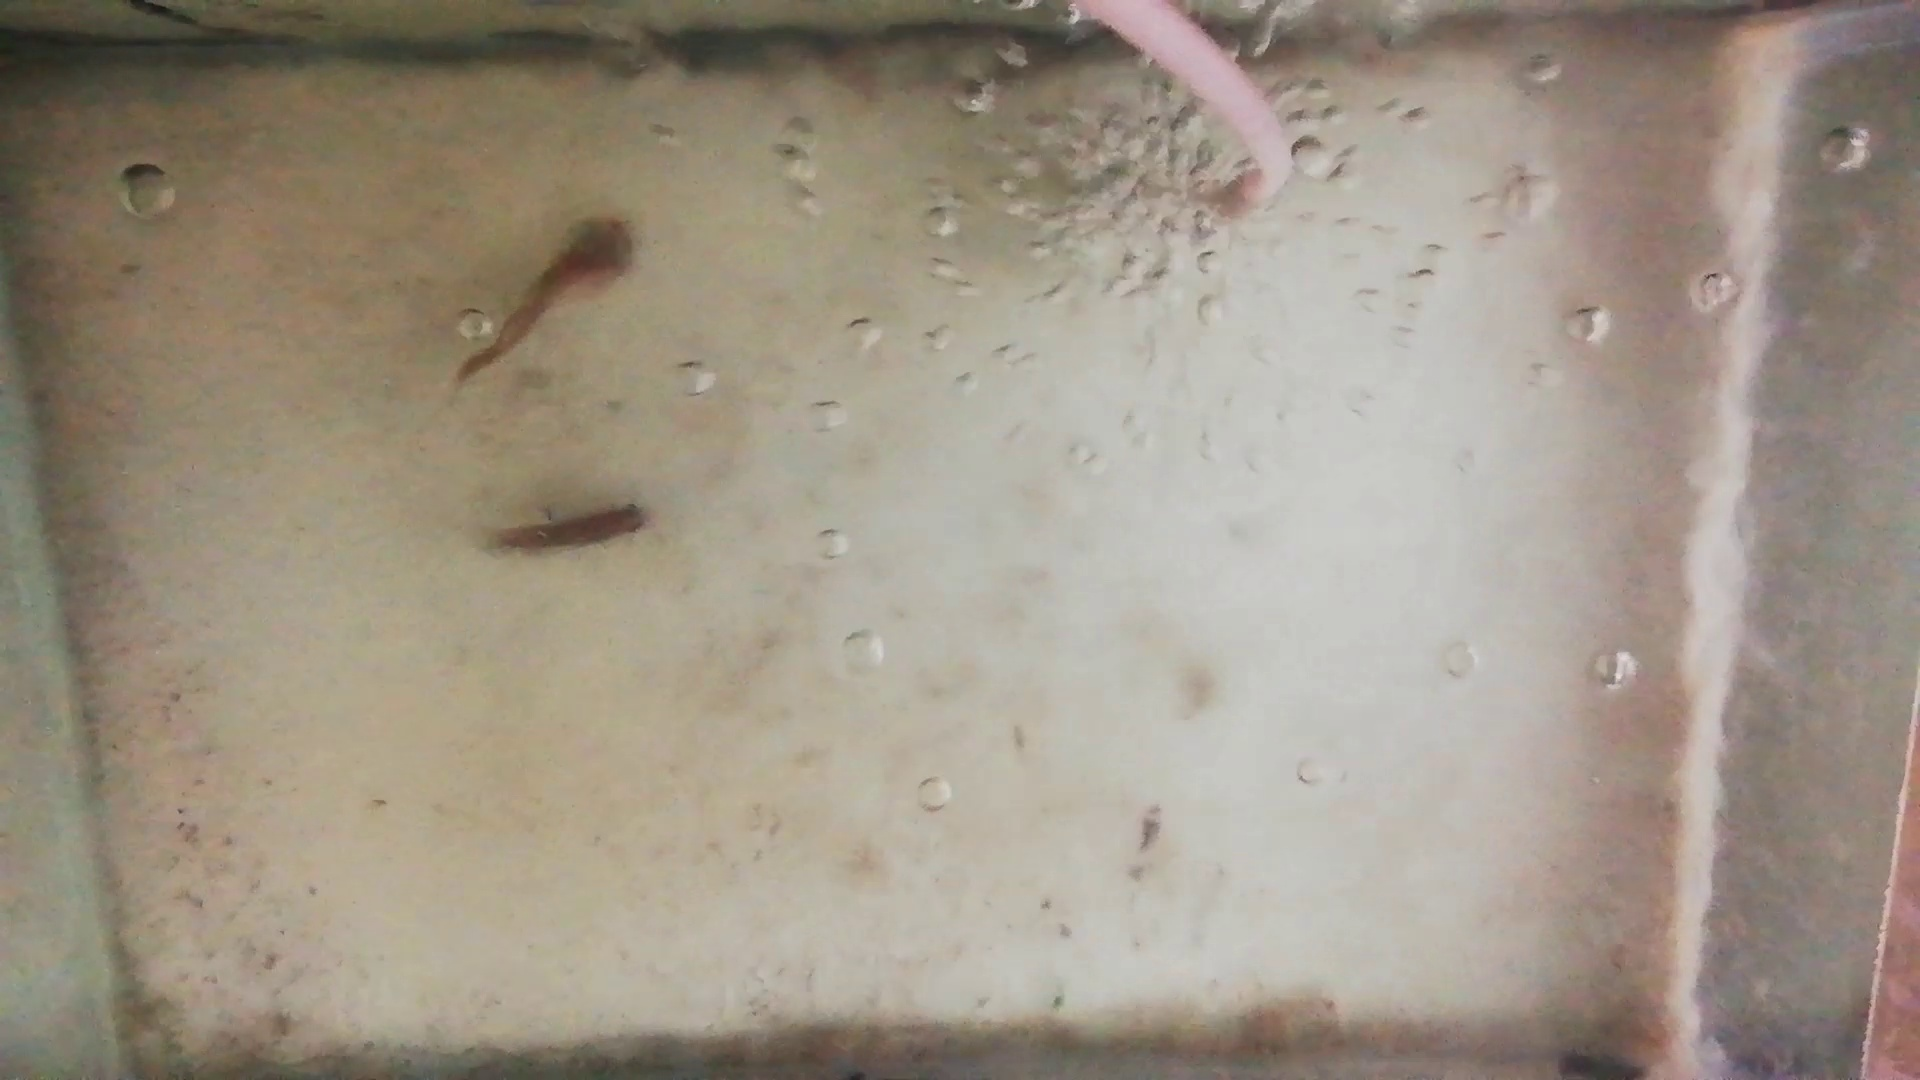fish: (450, 218, 634, 381), (484, 502, 649, 556)
